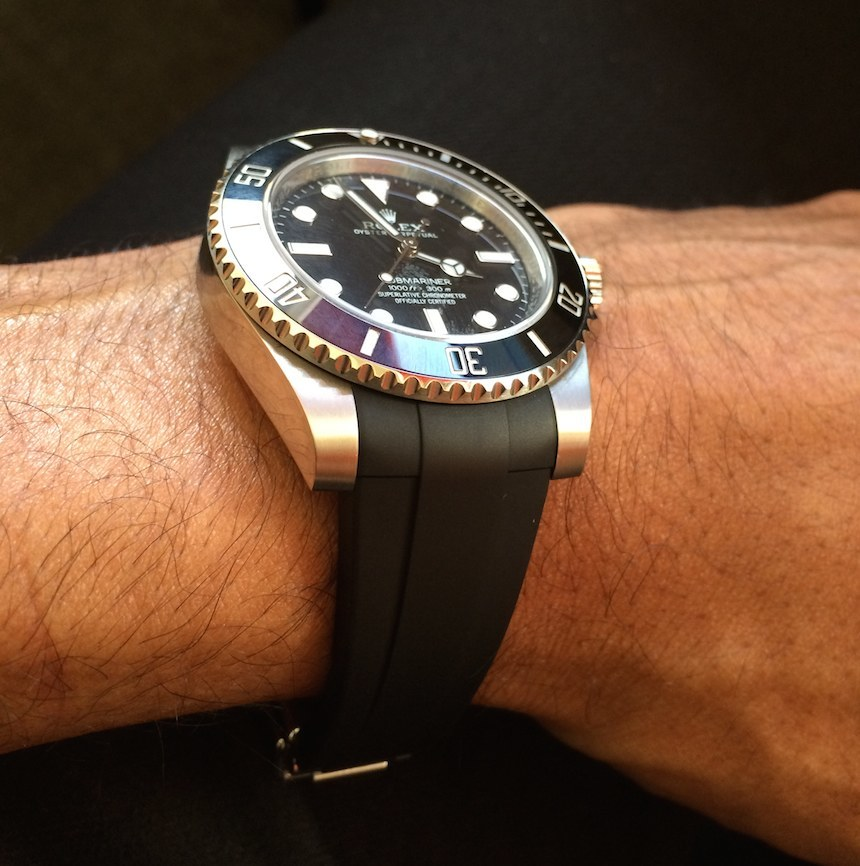clock: (273, 170, 536, 338)
